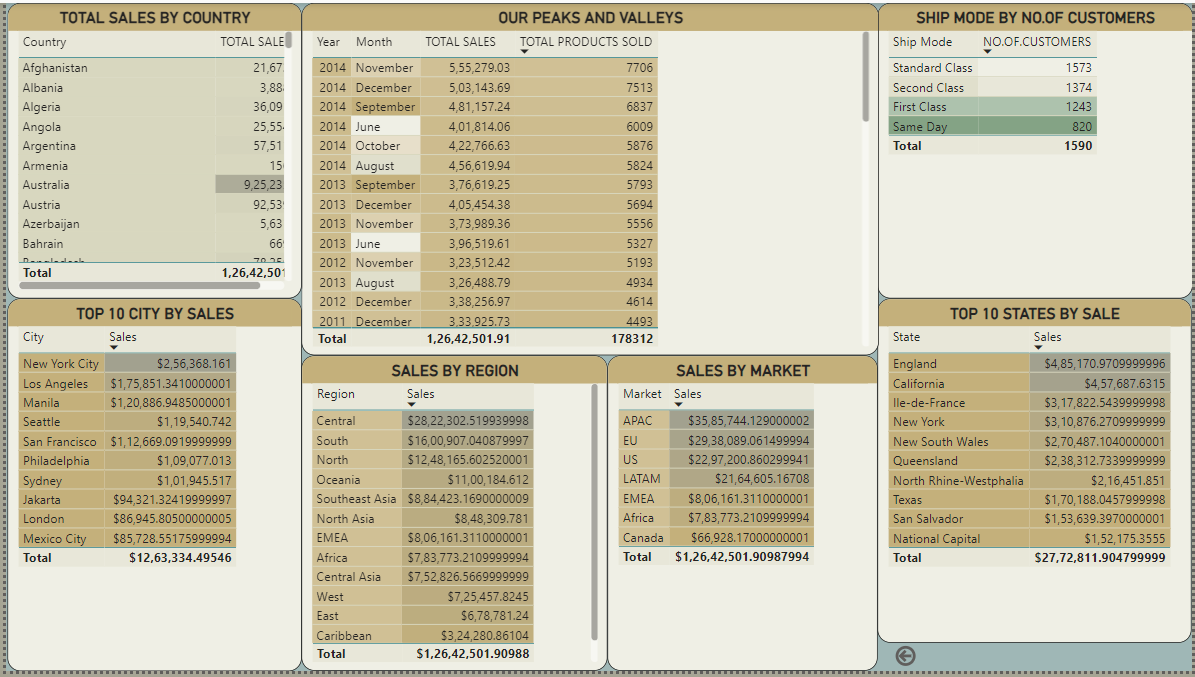

Layout of this report page (visuals, bound fields, positions):
{"tool":"powerbi","page":{"name":"Tables","canvas":[1280,720],"ordinal":1},"visuals":[{"type":"tableEx","title":"SHIP MODE BY NO.OF CUSTOMERS","fields":{"Values":["Orders.Ship Mode","Orders.NO.OF.CUSTOMERS"]},"box":[940,0,340,318.6],"z":8000},{"type":"tableEx","title":"TOP 10 CITY BY SALES","fields":{"Values":["Orders.City","Sum(Orders.Sales)"]},"box":[1.4,318.4,317.1,402.1],"z":9000},{"type":"tableEx","title":"SALES BY MARKET","fields":{"Values":["Orders.Market","Sum(Orders.Sales)"]},"box":[648.6,380,291.4,340],"z":10000},{"type":"tableEx","title":"TOP 10 STATES BY SALE","fields":{"Values":["Orders.State","Sum(Orders.Sales)"]},"box":[940,318.6,338.6,371.4],"z":11000},{"type":"tableEx","title":"SALES BY REGION","fields":{"Values":["Orders.Region","Sum(Orders.Sales)"]},"box":[318.6,380,330,340],"z":12000},{"type":"tableEx","title":"OUR PEAKS AND VALLEYS","fields":{"Values":["Orders.Order Date.Variation.Date Hierarchy.Year","Orders.Order Date.Variation.Date Hierarchy.Month","Orders.TOTAL SALES","Orders.TOTAL PRODUCTS SOLD"]},"box":[318.6,0,622.9,380],"z":13000},{"type":"tableEx","title":"TOTAL SALES BY COUNTRY","fields":{"Values":["Orders.Country","Orders.TOTAL SALES"]},"box":[1.1,0,317.2,318.3],"z":15000},{"type":"actionButton","box":[940,690,338.6,30],"z":15001}]}

Visuals, with their boxes in screenshot pixels (x1, y1, x2, y2), scaled from the page's 1280x720 canvas onto the 1195x677 screenshot:
"SHIP MODE BY NO.OF CUSTOMERS" tableEx: [878,0,1194,300]
"TOP 10 CITY BY SALES" tableEx: [1,299,297,676]
"SALES BY MARKET" tableEx: [606,357,878,676]
"TOP 10 STATES BY SALE" tableEx: [878,300,1194,649]
"SALES BY REGION" tableEx: [297,357,606,676]
"OUR PEAKS AND VALLEYS" tableEx: [297,0,879,357]
"TOTAL SALES BY COUNTRY" tableEx: [1,0,297,299]
actionButton: [878,649,1194,676]
